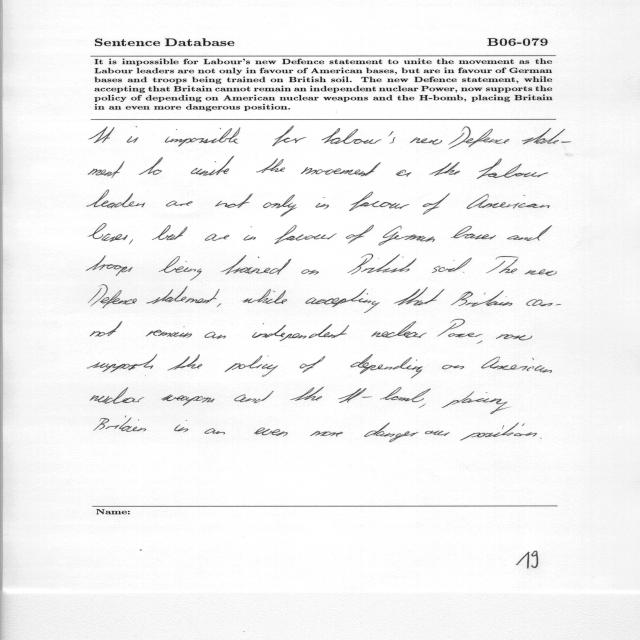word: (305, 289, 380, 313), (350, 355, 423, 379), (252, 323, 349, 341), (364, 423, 450, 442), (442, 391, 508, 414), (477, 158, 548, 179), (338, 387, 431, 403), (347, 254, 416, 275), (220, 255, 292, 275), (165, 128, 240, 147), (449, 126, 510, 149), (460, 423, 537, 441), (146, 286, 220, 304), (87, 355, 157, 373), (467, 194, 550, 209), (274, 225, 337, 244), (322, 128, 396, 144), (225, 355, 278, 377), (349, 192, 409, 211), (378, 226, 435, 246), (481, 357, 552, 373), (88, 285, 137, 308), (301, 163, 381, 177), (87, 190, 145, 208), (451, 290, 512, 307), (159, 257, 202, 281), (87, 255, 133, 276), (371, 321, 427, 338), (394, 287, 444, 306), (90, 387, 144, 404), (191, 156, 234, 176), (94, 416, 146, 432), (437, 319, 483, 337), (522, 128, 571, 144), (88, 223, 128, 242), (263, 195, 297, 217), (507, 225, 552, 241), (272, 126, 306, 146), (243, 289, 288, 304), (451, 226, 496, 240), (89, 161, 125, 178), (432, 258, 472, 273), (423, 193, 450, 215), (162, 395, 215, 406), (215, 193, 253, 208), (486, 256, 519, 273), (146, 327, 192, 339), (168, 355, 202, 371), (346, 225, 374, 244), (152, 225, 187, 240), (90, 321, 122, 337), (234, 391, 274, 403), (290, 387, 324, 401), (256, 158, 285, 173), (429, 162, 460, 176), (139, 157, 163, 175), (300, 356, 325, 373), (89, 127, 115, 143), (254, 428, 288, 437), (410, 137, 442, 145), (496, 334, 532, 341), (526, 299, 561, 306), (524, 269, 557, 276), (127, 126, 139, 143), (310, 431, 343, 437), (244, 226, 256, 241), (315, 197, 329, 209), (205, 234, 229, 241), (174, 420, 188, 432), (166, 201, 193, 207), (204, 332, 226, 339), (204, 429, 225, 435), (301, 269, 319, 275), (396, 170, 411, 177), (442, 365, 464, 369), (419, 403, 426, 408), (129, 239, 133, 244), (477, 340, 482, 344), (217, 303, 221, 307), (540, 438, 542, 439), (463, 272, 464, 273)
